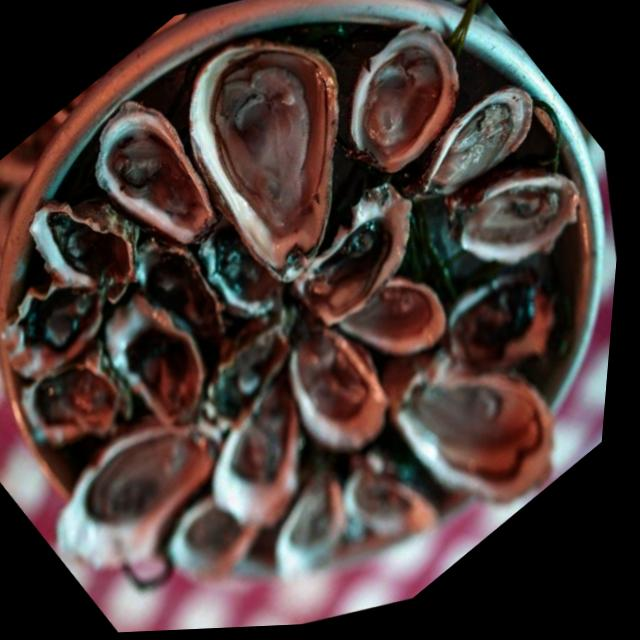Oyster-Closed: (370, 180, 509, 320)
Oyster-Open: (194, 43, 332, 269), (79, 424, 220, 586), (403, 367, 555, 504), (22, 334, 140, 485), (288, 183, 409, 328), (351, 25, 463, 172), (102, 291, 207, 433), (447, 254, 563, 370), (287, 326, 390, 456), (423, 87, 540, 198), (96, 113, 210, 226), (343, 428, 455, 542), (233, 367, 312, 524), (450, 174, 580, 265), (31, 199, 139, 303), (188, 217, 284, 332), (198, 313, 290, 428), (331, 275, 447, 360), (5, 281, 103, 381), (165, 485, 263, 583), (141, 246, 226, 356), (278, 469, 348, 575)
